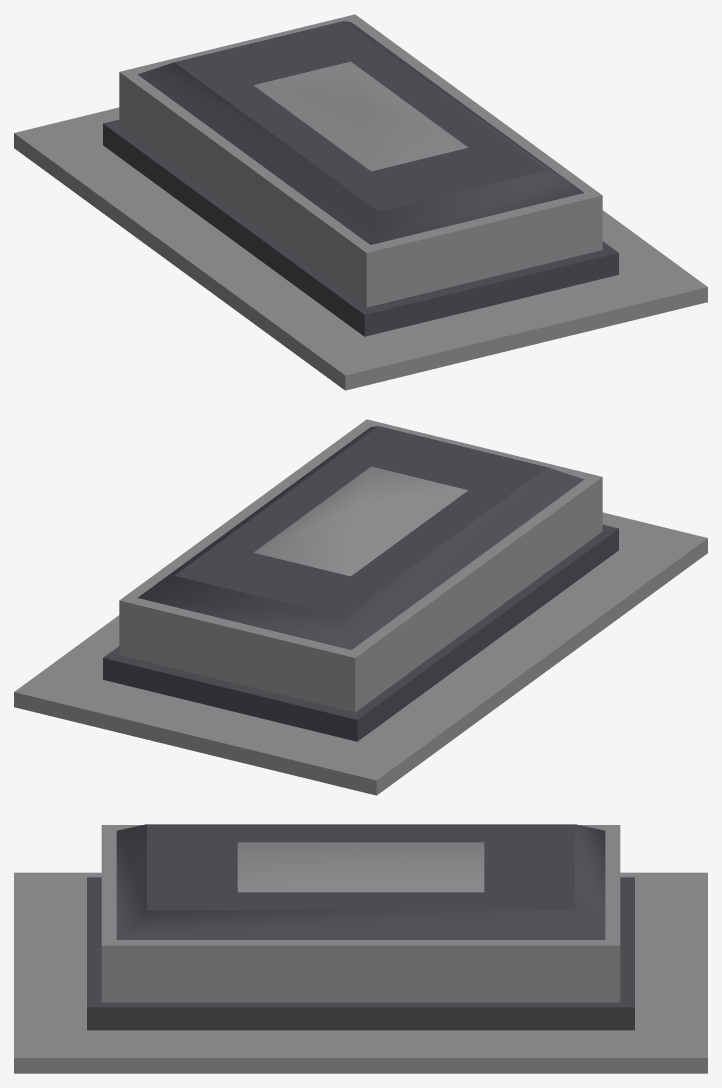
File: Sarcophagus03.glb
The picture shows the model from 3 angles, top to bottom: view 1: azimuth 30°, elevation 25°; view 2: azimuth 150°, elevation 25°; view 3: azimuth 270°, elevation 25°; orthographic projection. The views are drawn at different scales.
Visible parts, largest first — view 1: Sarcophagus03; view 2: Sarcophagus03; view 3: Sarcophagus03.
Boxes of the visible parts, bbox=[...] form: Sarcophagus03: bbox=[14, 14, 707, 390]; Sarcophagus03: bbox=[14, 419, 707, 795]; Sarcophagus03: bbox=[14, 824, 707, 1073].
Size of what is drawn, in the model's own units: 1.25 by 0.4088 by 1.99.
Materials: 1 (1 with a texture image).
